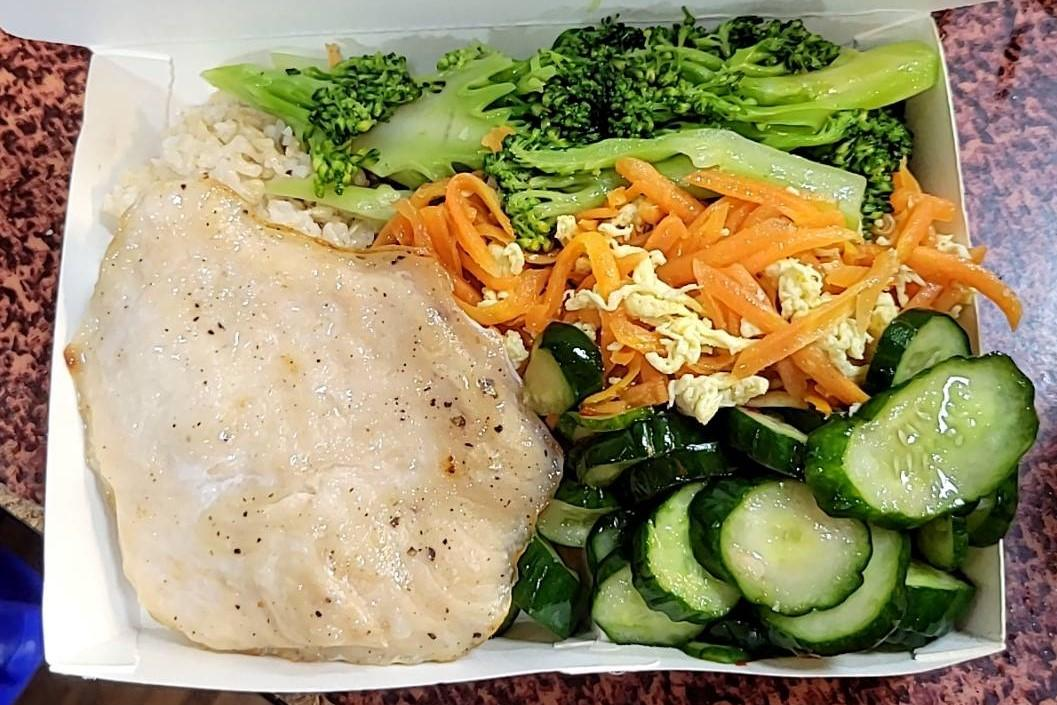big grilled chicken leg: (19, 15, 1040, 697)
big herbal chicken leg: (117, 99, 535, 384)
braised fish fillet: (539, 325, 1015, 662), (407, 179, 977, 409), (257, 15, 940, 200)
braised pork: (75, 189, 555, 668)
